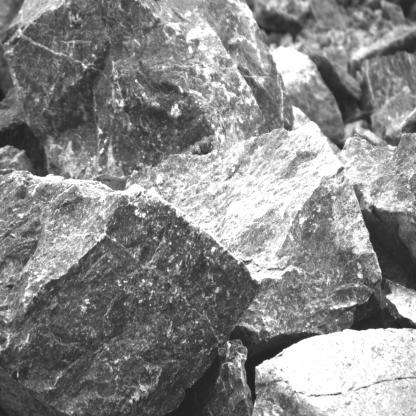stone: (0, 169, 262, 416), (128, 121, 382, 340), (0, 0, 294, 189), (251, 327, 416, 416), (336, 132, 416, 278)
